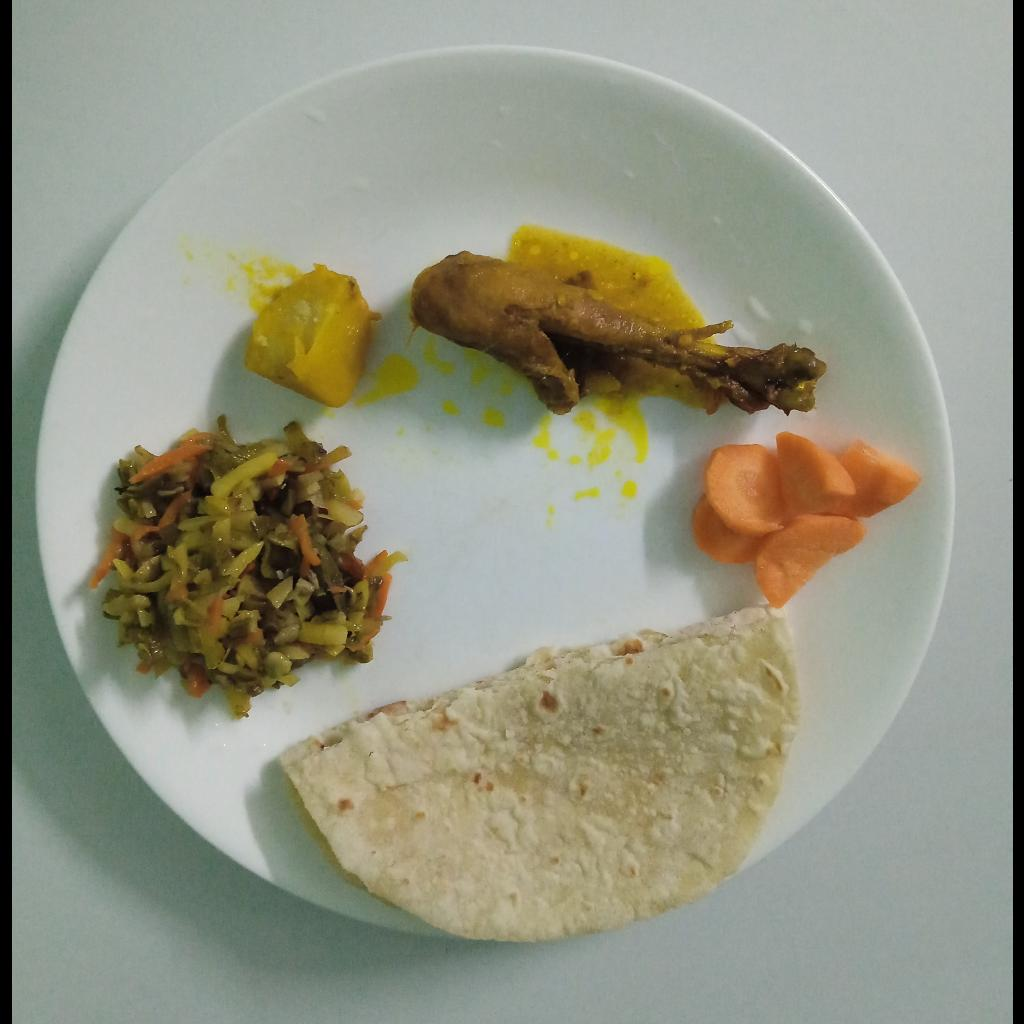carrot: (688, 429, 931, 610)
chicken: (409, 251, 828, 418)
potato: (241, 265, 379, 411)
ruti: (276, 602, 807, 942)
vegetable: (88, 426, 398, 700)
